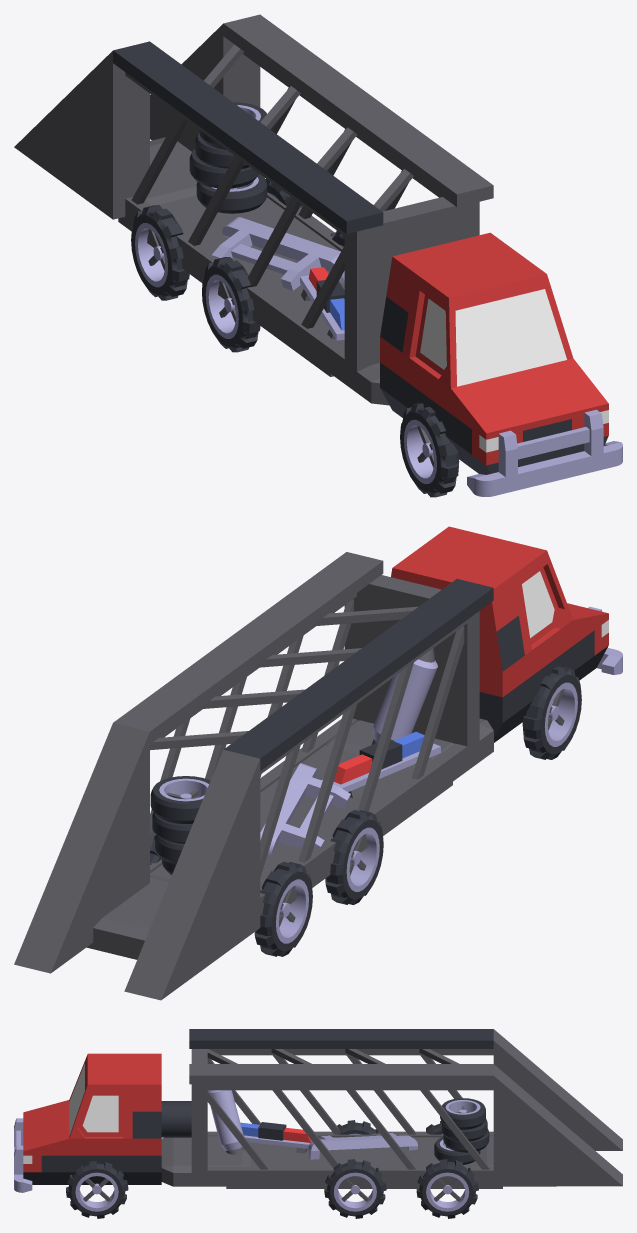
The model's file is hight_car_red.fbx.
3 renders of one model, top to bottom at view 1: azimuth 30°, elevation 25°; view 2: azimuth 150°, elevation 25°; view 3: azimuth 270°, elevation 25°, orthographic. The views are drawn at different scales.
Visible parts, largest first — view 1: mergedBlocks; view 2: mergedBlocks; view 3: mergedBlocks.
Boxes of the visible parts, x1,y1,x2,y2 form: mergedBlocks: (14,14,622,497); mergedBlocks: (14,526,622,1000); mergedBlocks: (14,1029,622,1218).
Size of the model in its own units: 12 by 17.38 by 66.
